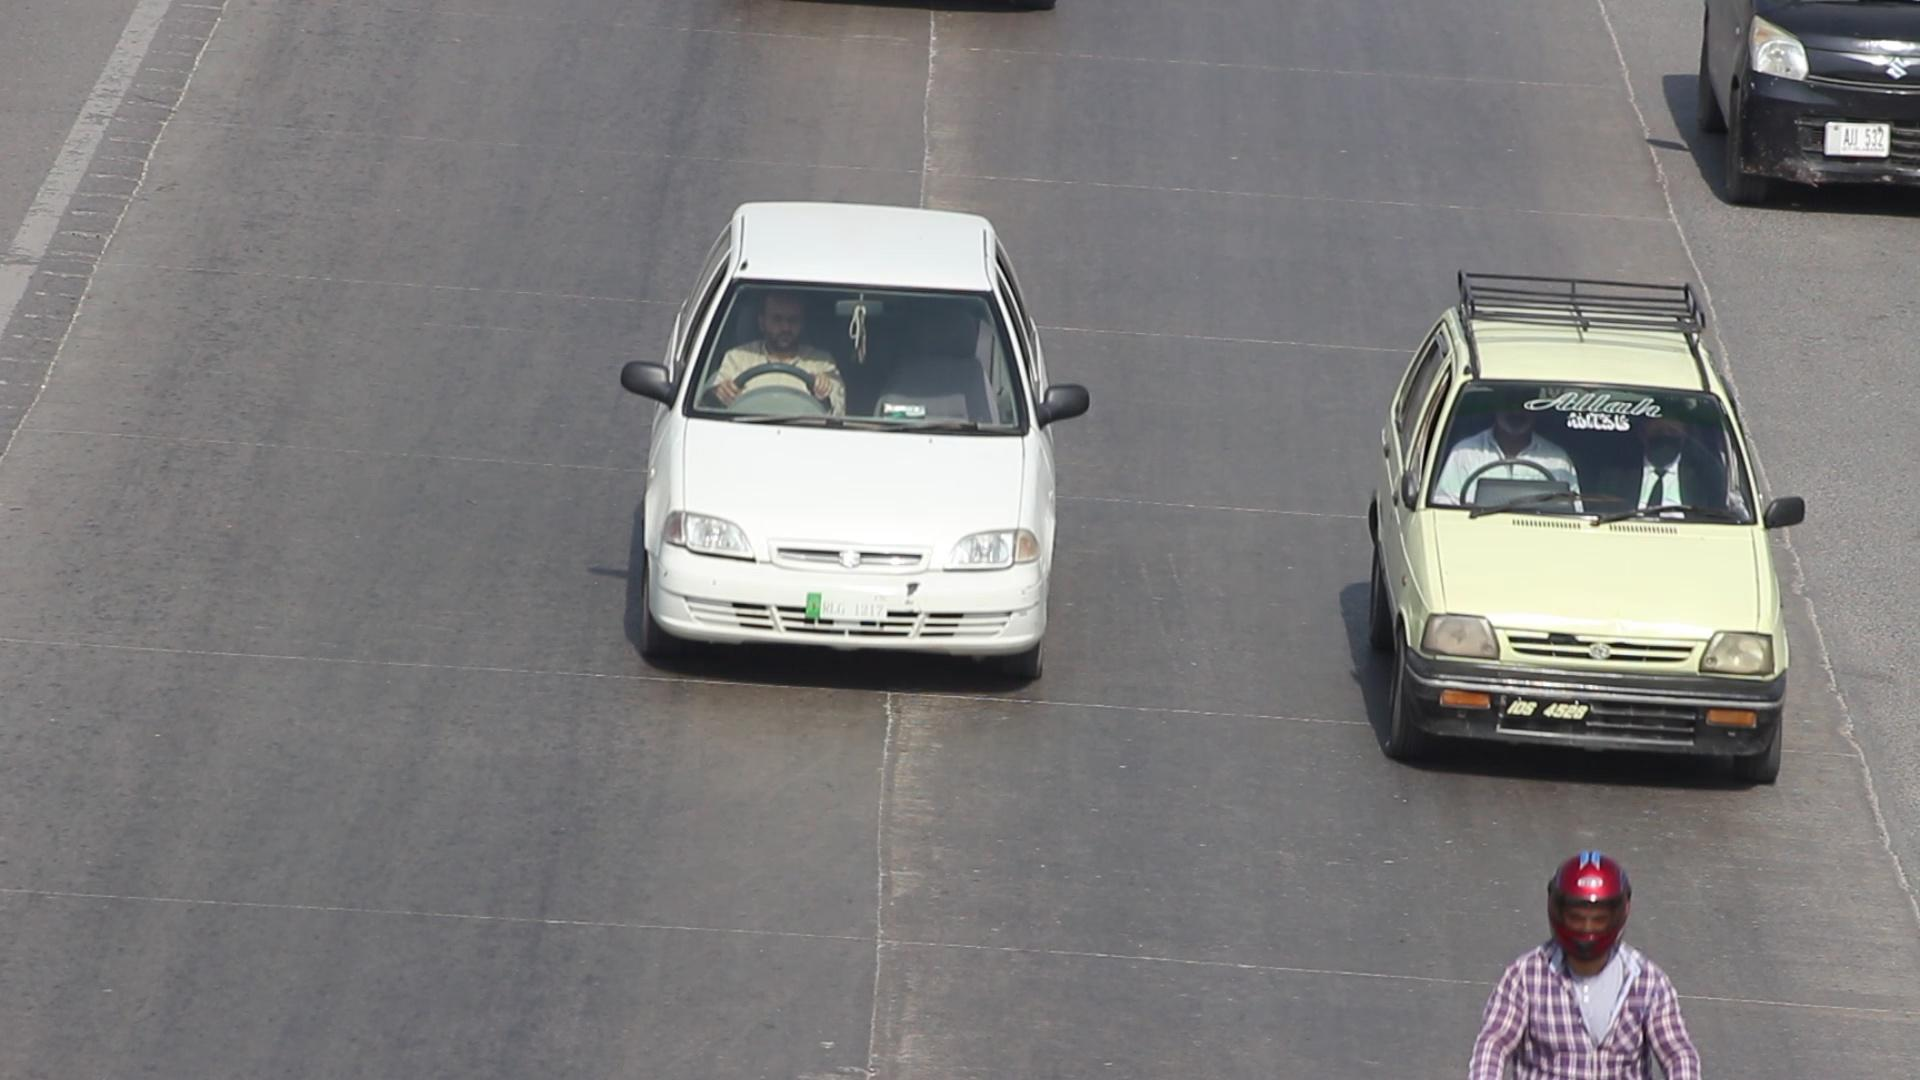windshield: (667, 253, 1038, 456), (1418, 353, 1760, 541)
